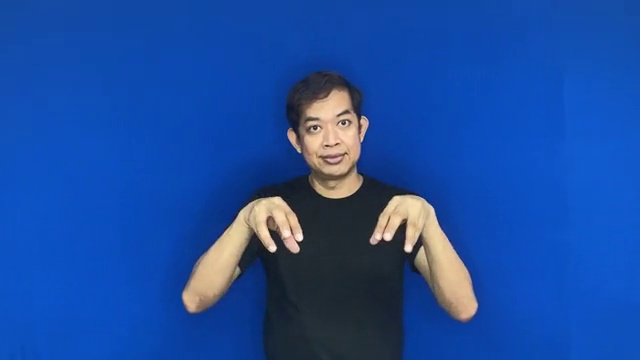egg: (227, 183, 436, 260)
